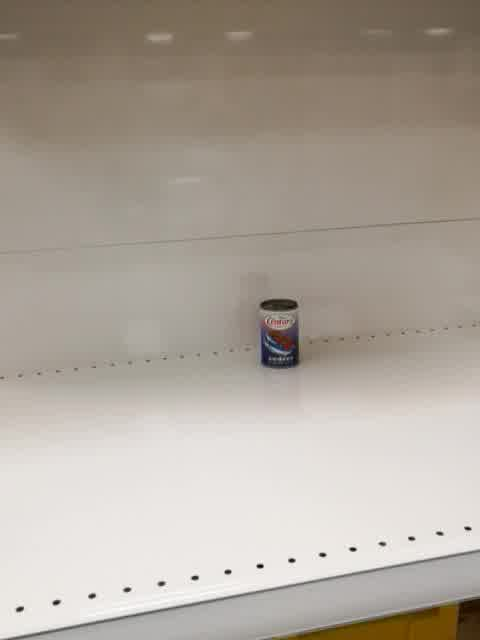sardine: (258, 297, 300, 370)
